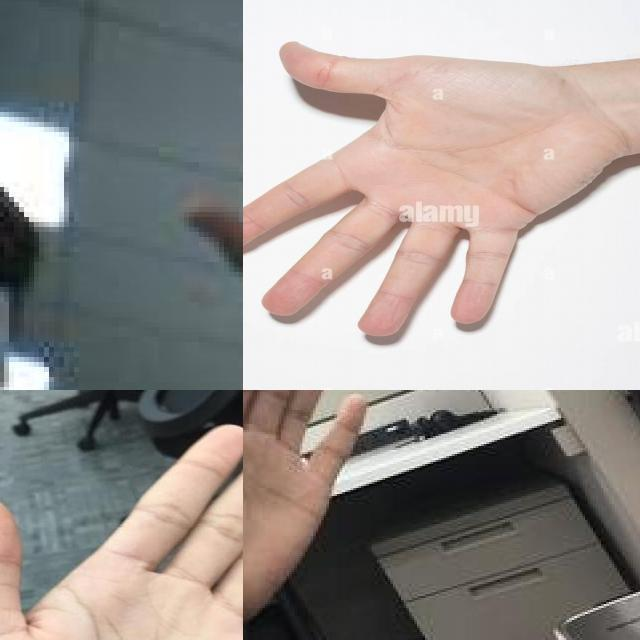no-gloves: (243, 41, 632, 340), (0, 424, 243, 640), (243, 390, 374, 622), (179, 0, 243, 390)
